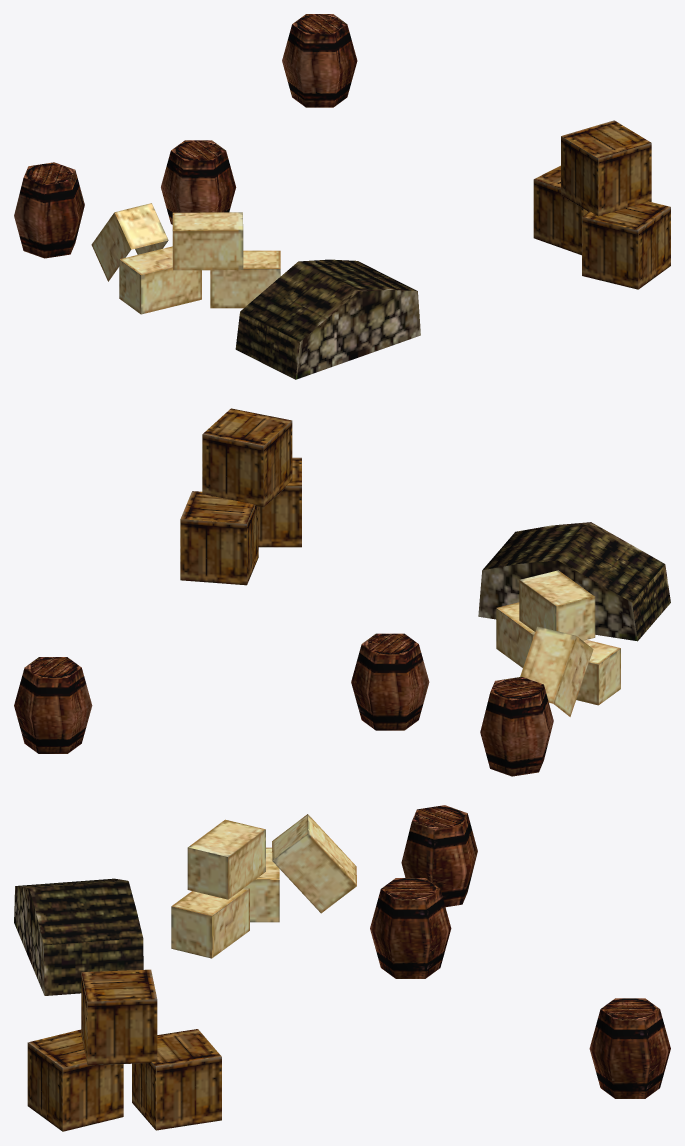
The model's file is pers_mill_2.dae.
3 views of the same model, one above another, from view 1: azimuth 30°, elevation 25°; view 2: azimuth 150°, elevation 25°; view 3: azimuth 270°, elevation 25° (orthographic). The views are drawn at different scales.
Visible parts, largest first — view 1: Object37-Pivot; view 2: Object37-Pivot; view 3: Object37-Pivot.
Boxes of the visible parts, x1,y1,x2,y2 form: Object37-Pivot: (14,14,670,379); Object37-Pivot: (14,408,670,776); Object37-Pivot: (14,805,670,1131).
Bounding box in the file's own units: 12.74 × 14.03 × 3.03.
